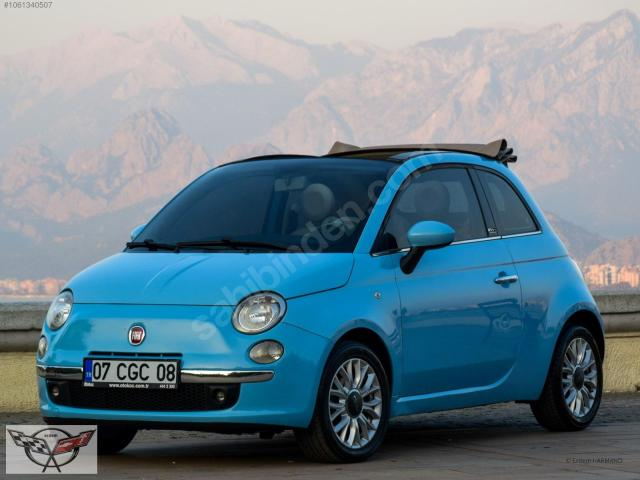plaka: (84, 359, 179, 388)
